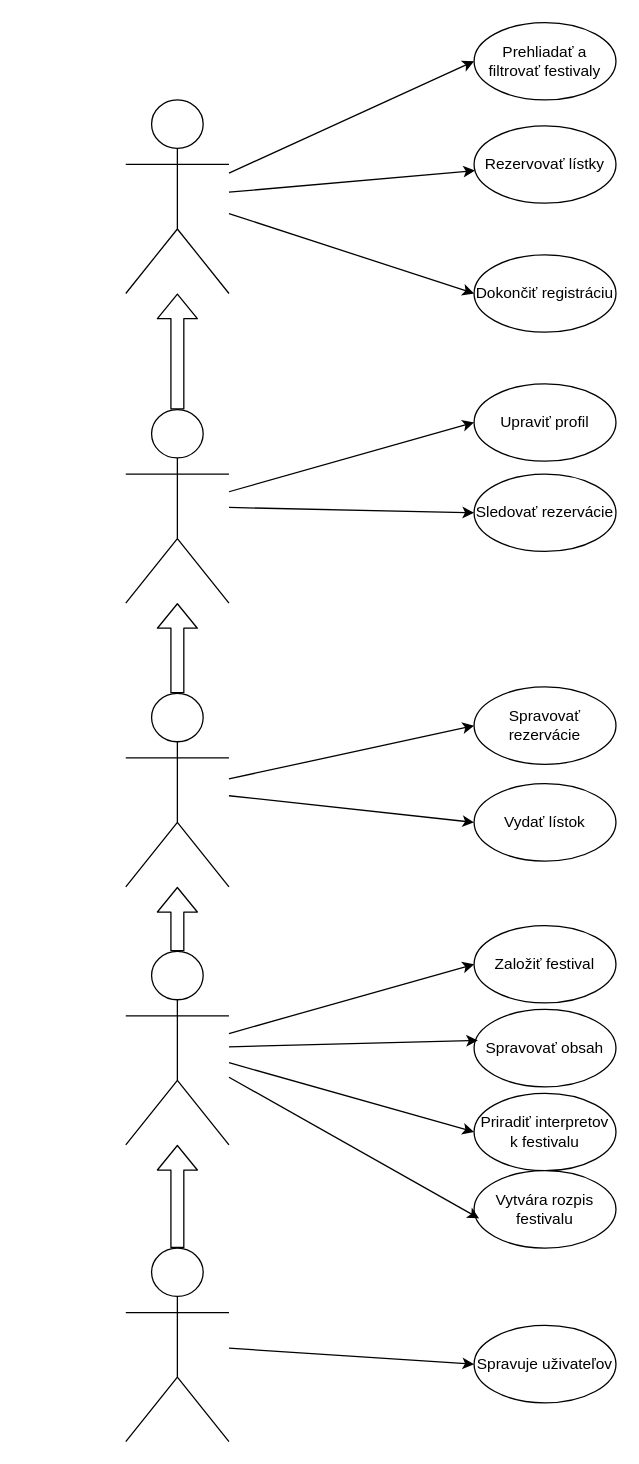
This 639x1464 diagram has some shape labels left out. The shapes that lost their labels are listed below. From the top down, each one's box as (x1, y1, x2, y2) in pixels, then its label:
(124, 99, 229, 293): Neregistrovaný zákazník
(124, 408, 229, 603): Registrovaný zákazník (divák)
(124, 692, 229, 887): Pokladník
(124, 950, 229, 1145): Usporiadateľ
(124, 1247, 229, 1442): Admin
